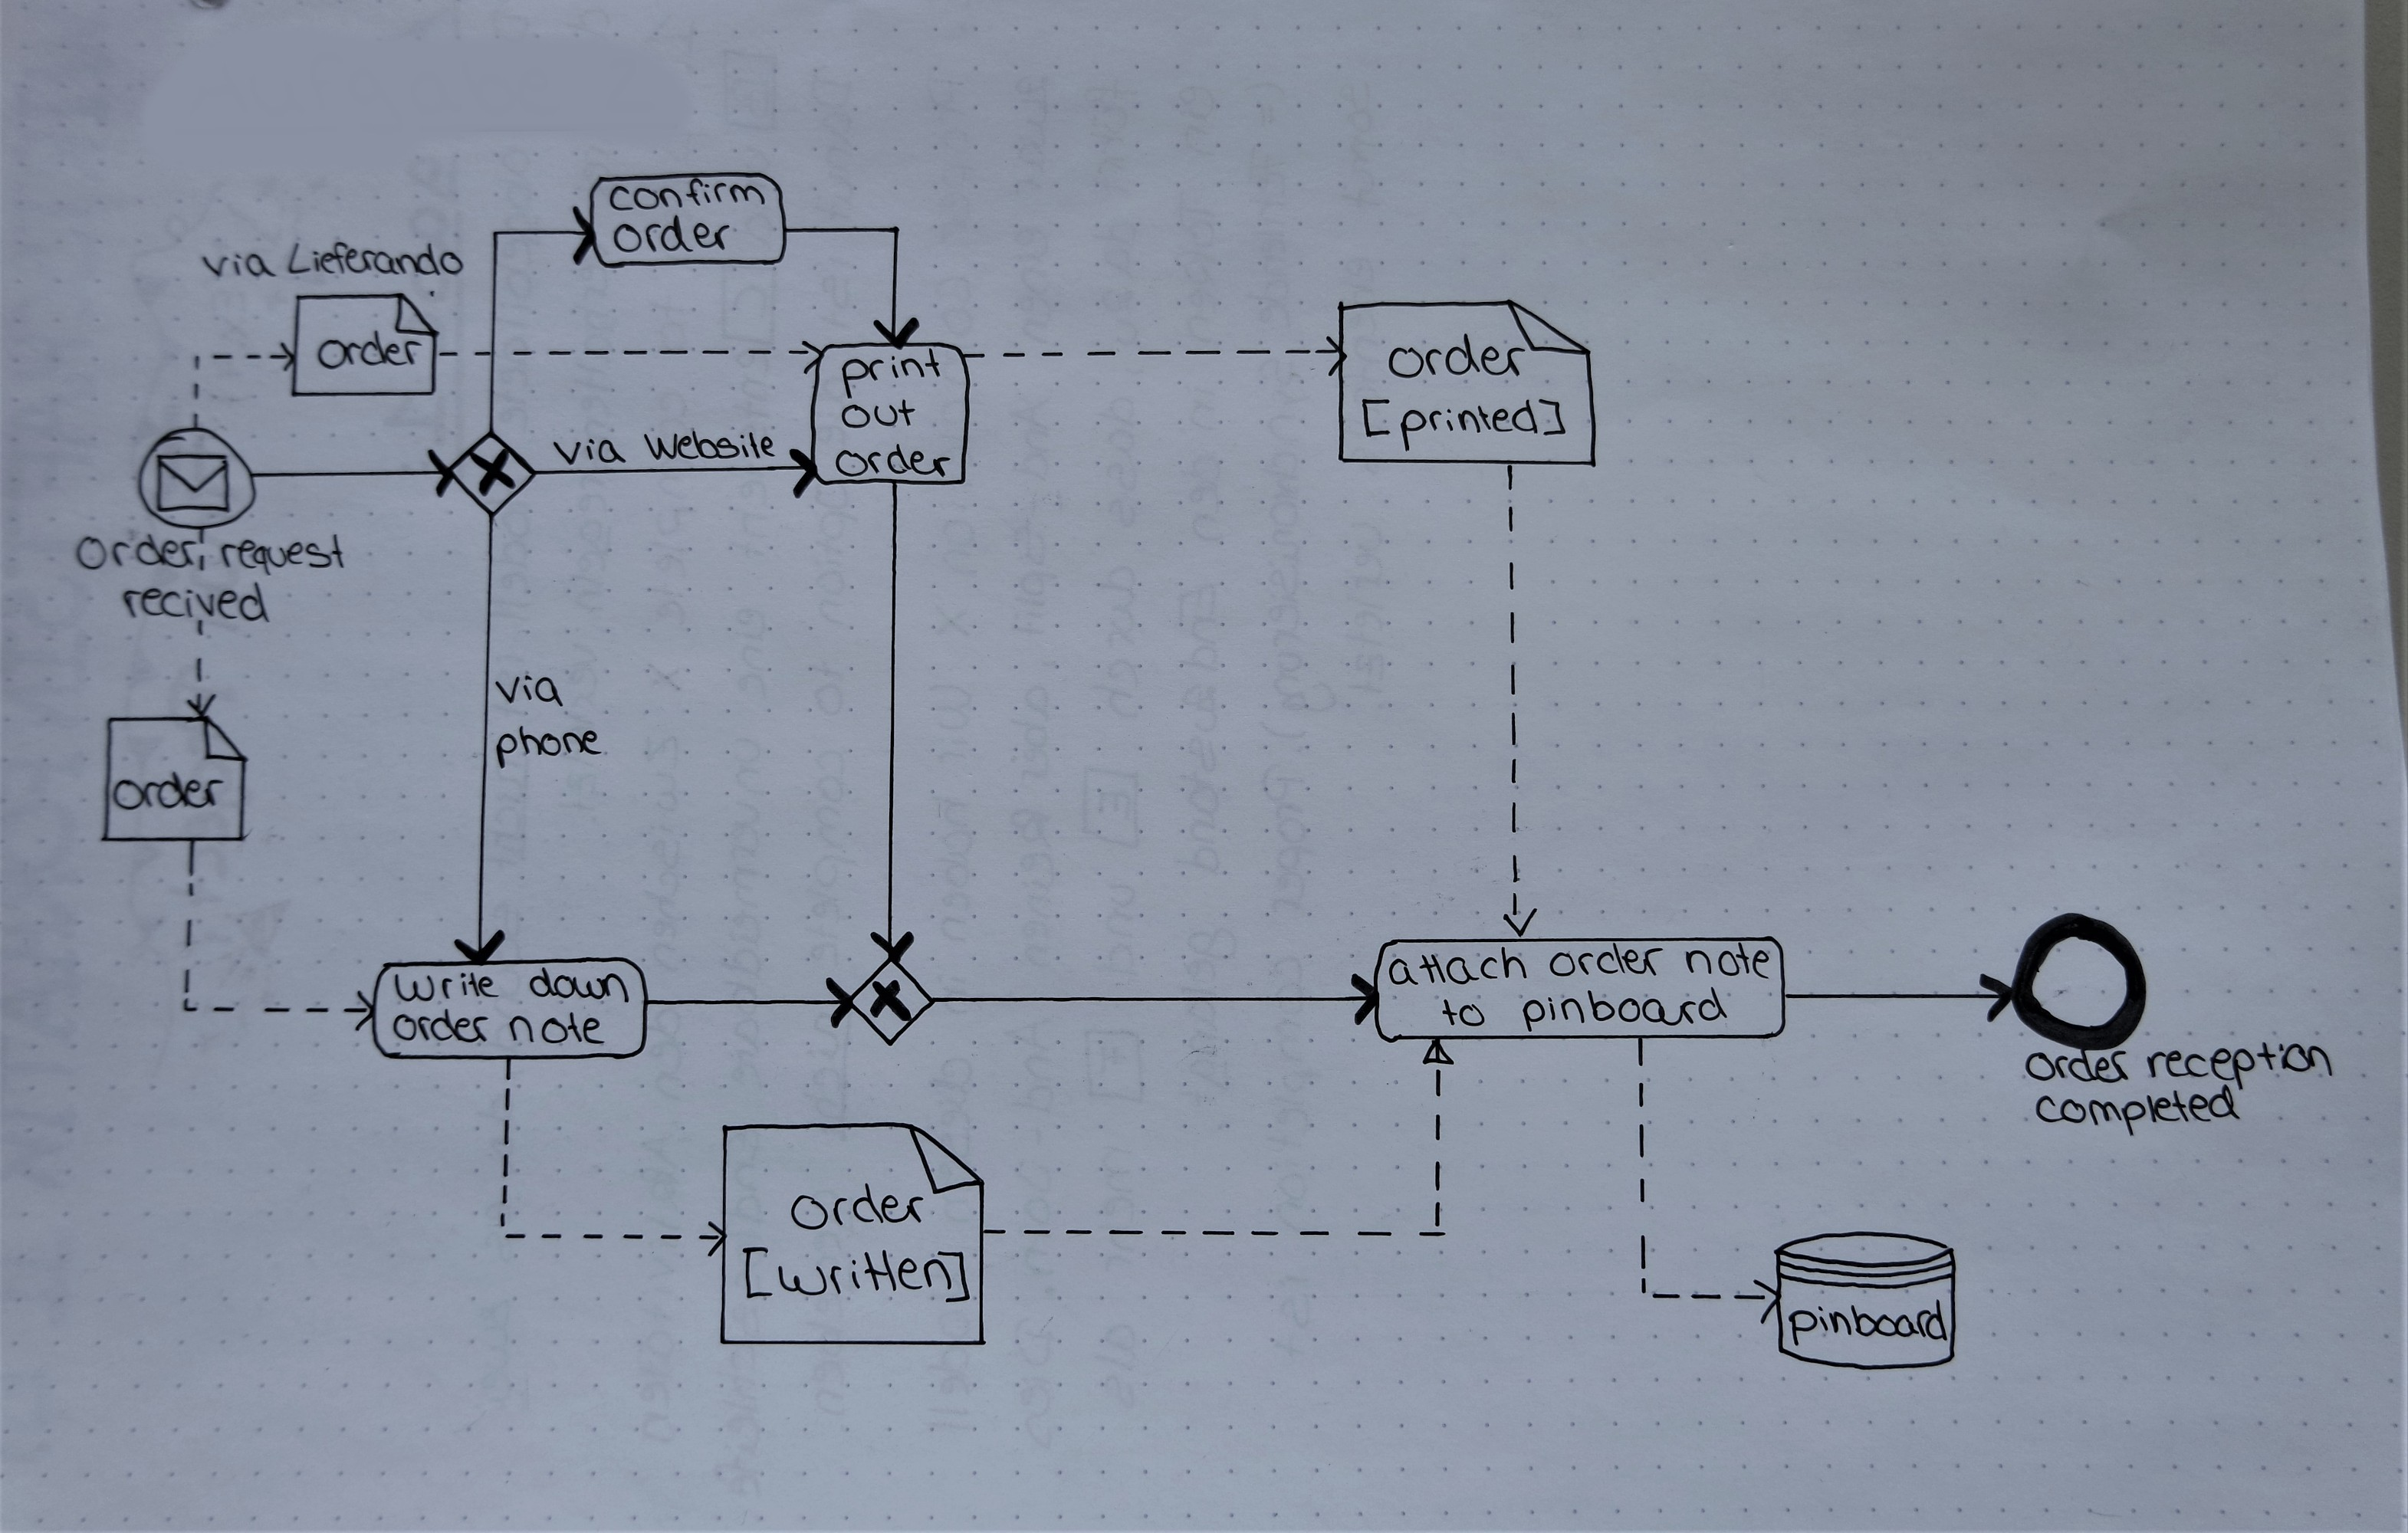Lieferando: (284, 237, 467, 279)
Order: (72, 531, 200, 572)
[printed]: (1362, 395, 1571, 451)
[written]: (742, 1240, 972, 1305)
attach: (1387, 944, 1532, 989)
completed: (2034, 1084, 2241, 1137)
confirm: (606, 177, 769, 214)
down: (527, 966, 630, 1003)
note: (507, 1010, 607, 1047), (1683, 942, 1773, 979)
order: (788, 1180, 928, 1231), (1387, 333, 1525, 381), (112, 768, 228, 816), (613, 214, 734, 256), (316, 328, 425, 372), (1546, 942, 1666, 979), (2024, 1042, 2129, 1082), (832, 444, 950, 477), (390, 1007, 493, 1044)
out: (837, 396, 918, 431)
phone: (495, 724, 606, 768)
pinboard: (1516, 989, 1729, 1035), (1787, 1301, 1948, 1344)
print: (841, 347, 944, 400)
reception: (2143, 1038, 2336, 1086)
recived: (119, 577, 272, 623)
request: (216, 531, 349, 574)
to: (1437, 995, 1488, 1030)
via: (198, 249, 279, 284), (551, 431, 625, 468), (493, 672, 565, 707)
website: (642, 426, 776, 461)
write: (391, 970, 504, 1003)
